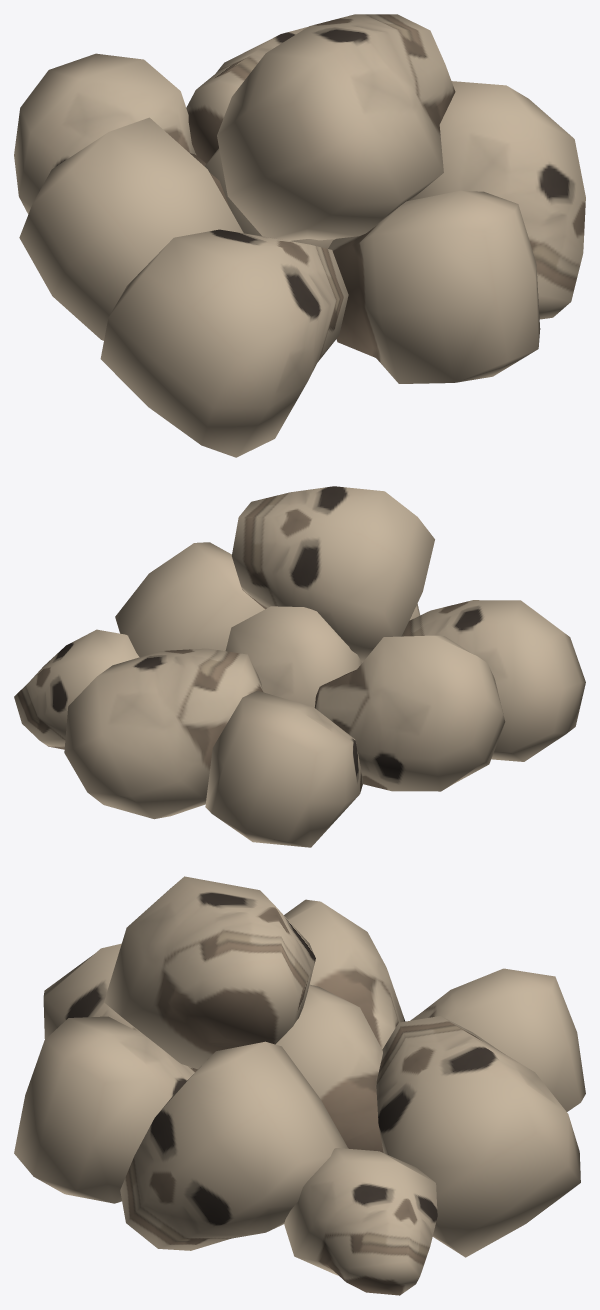
File: crypt_skull_pile.gltf
3 views of the same model, one above another, from view 1: azimuth 30°, elevation 25°; view 2: azimuth 150°, elevation 25°; view 3: azimuth 270°, elevation 25° (orthographic). The views are drawn at different scales.
Visible parts, largest first — view 1: crypt_skull_pile; view 2: crypt_skull_pile; view 3: crypt_skull_pile.
Boxes of the visible parts, bbox=[...] form: crypt_skull_pile: bbox=[14, 14, 585, 457]; crypt_skull_pile: bbox=[14, 486, 585, 847]; crypt_skull_pile: bbox=[14, 876, 585, 1295].
Bounding box in the file's own units: 0.8376 × 0.4771 × 0.8032.
1 material, 1 textured.
